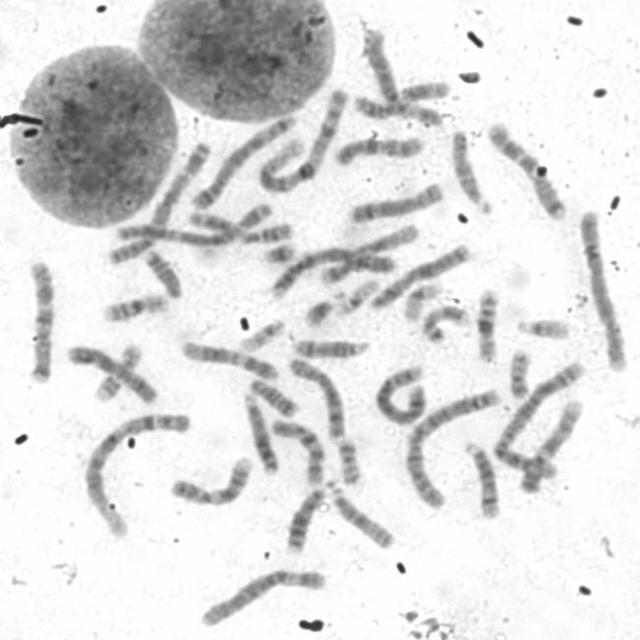A1: (78, 408, 192, 540), (255, 82, 349, 196)
A2: (401, 383, 504, 512), (486, 355, 589, 483)
A3: (104, 136, 216, 269), (108, 198, 276, 249)
B4: (576, 206, 631, 374), (266, 243, 398, 299)
B5: (188, 112, 302, 211), (372, 360, 431, 428)
C10: (266, 413, 328, 488), (329, 131, 428, 169)
C11: (183, 206, 295, 245), (351, 75, 452, 118)
C12: (316, 218, 422, 286), (175, 334, 280, 382)
C6: (358, 22, 445, 128), (196, 566, 326, 630)
C7: (482, 116, 571, 222), (24, 256, 58, 386)
C8: (283, 352, 349, 442), (345, 180, 444, 225)
C9: (516, 394, 587, 495), (166, 450, 256, 508)
D13: (281, 477, 333, 555), (239, 389, 281, 475)
D14: (457, 435, 504, 520), (288, 334, 373, 361)
D15: (322, 476, 396, 550), (448, 127, 496, 216)
E16: (98, 286, 172, 325), (471, 284, 501, 366)
E17: (90, 342, 144, 404), (418, 301, 471, 345)
E18: (246, 374, 302, 418), (140, 246, 184, 301)
F19: (330, 274, 380, 319), (398, 275, 444, 322)
F20: (503, 343, 535, 400), (333, 435, 363, 487)
G21: (300, 290, 341, 330), (257, 237, 300, 267)
G22: (235, 314, 289, 354), (512, 310, 574, 342)
X: (367, 240, 473, 312), (61, 340, 160, 405)
